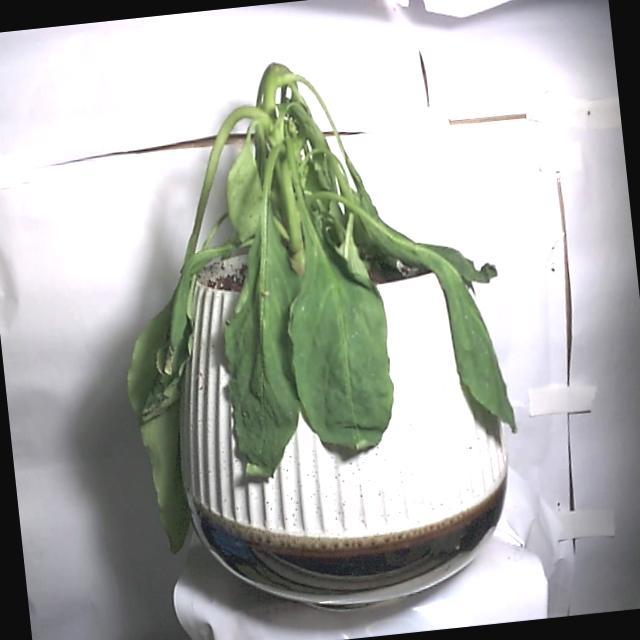Leaf: (212, 220, 328, 481), (279, 230, 402, 462)
